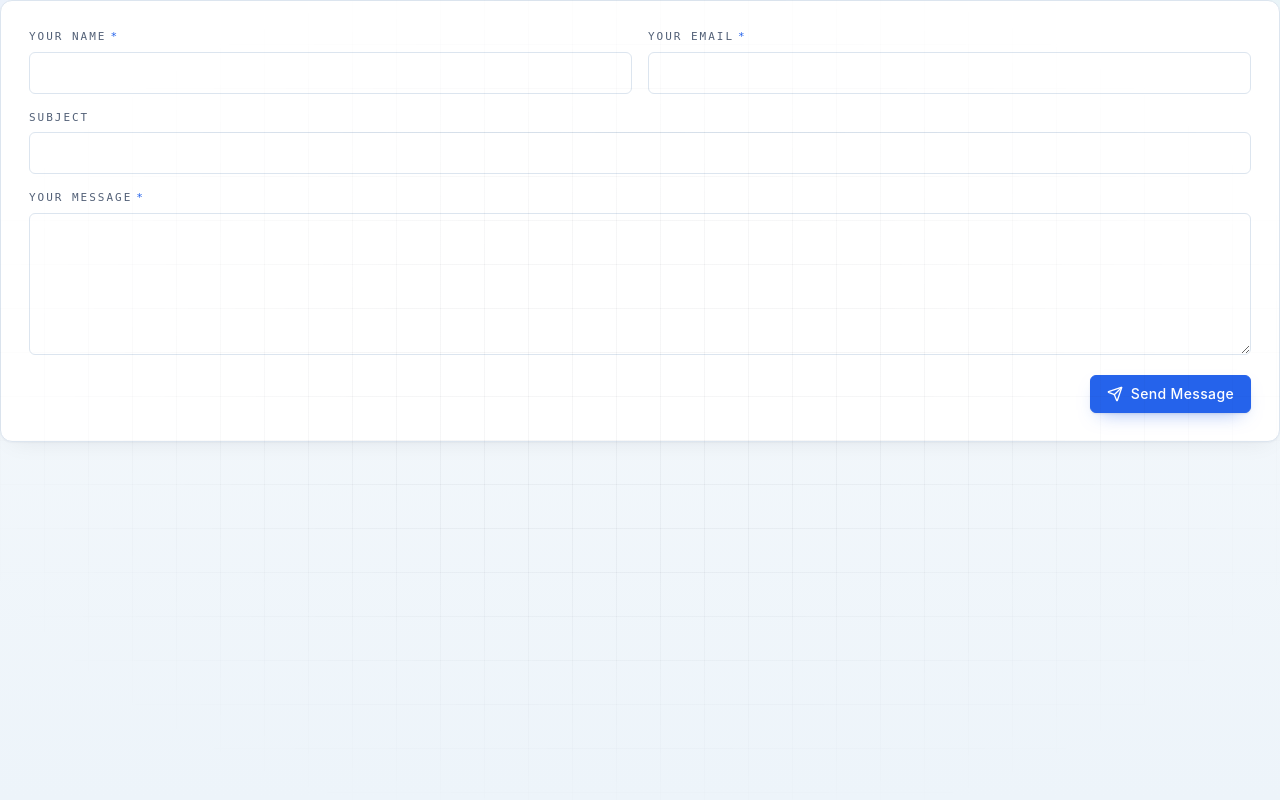
Test: ContactForm fallback › opens mailto when no contact endpoint is configured
This screenshot has width=1280, height=800.
Type "Alex Recruiter" into the field labelled "Your Name*" at (330, 72), box [29,52,632,94]
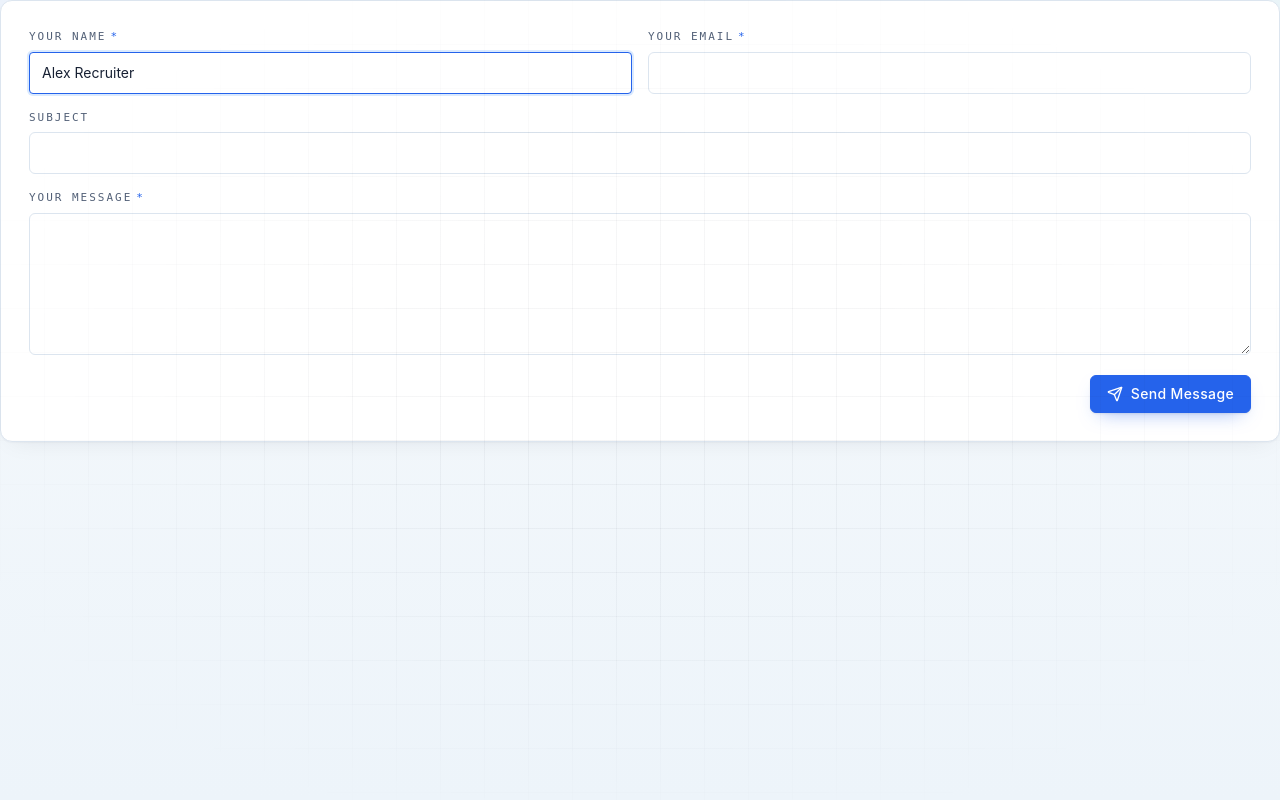
Type "alex@example.com" into the field labelled "Your Email*" at (950, 72), box [648,52,1251,94]
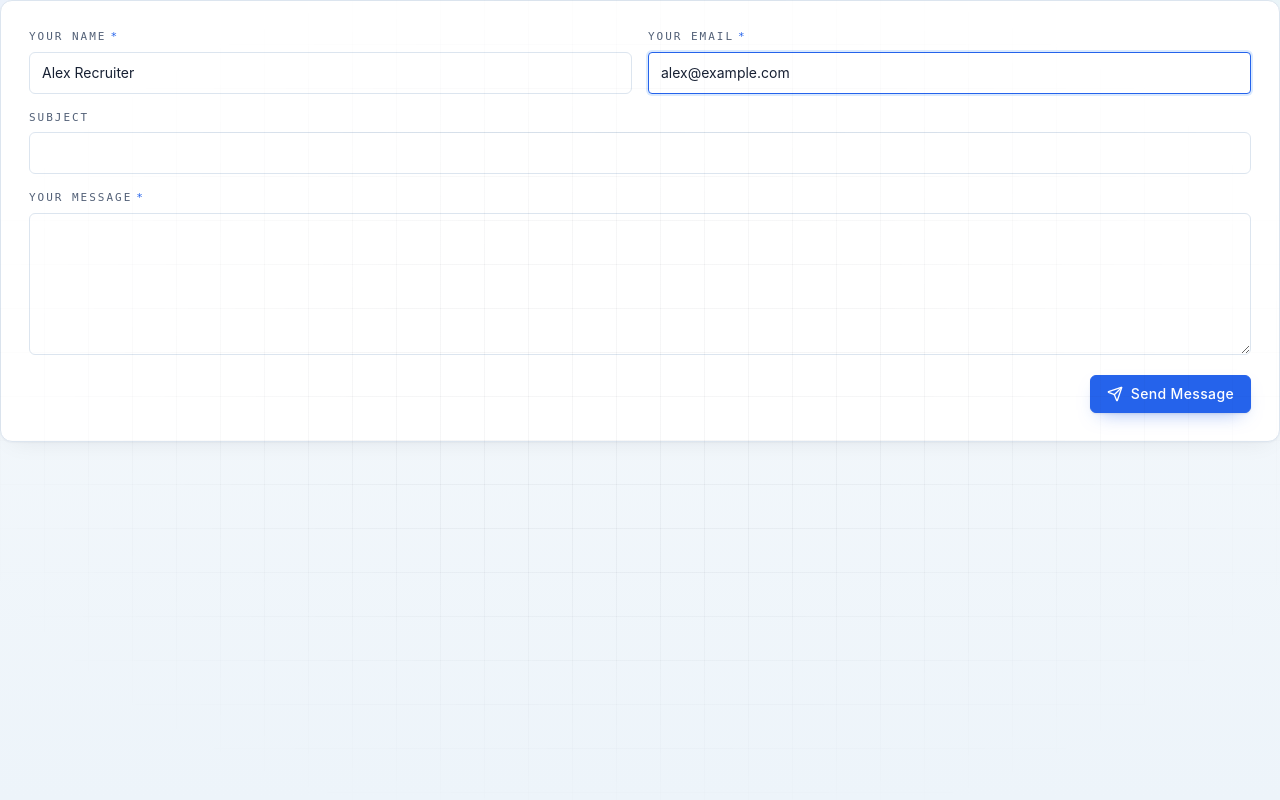
Type "Role discussion" into the field labelled "Subject" at (640, 153), box [29,132,1251,174]
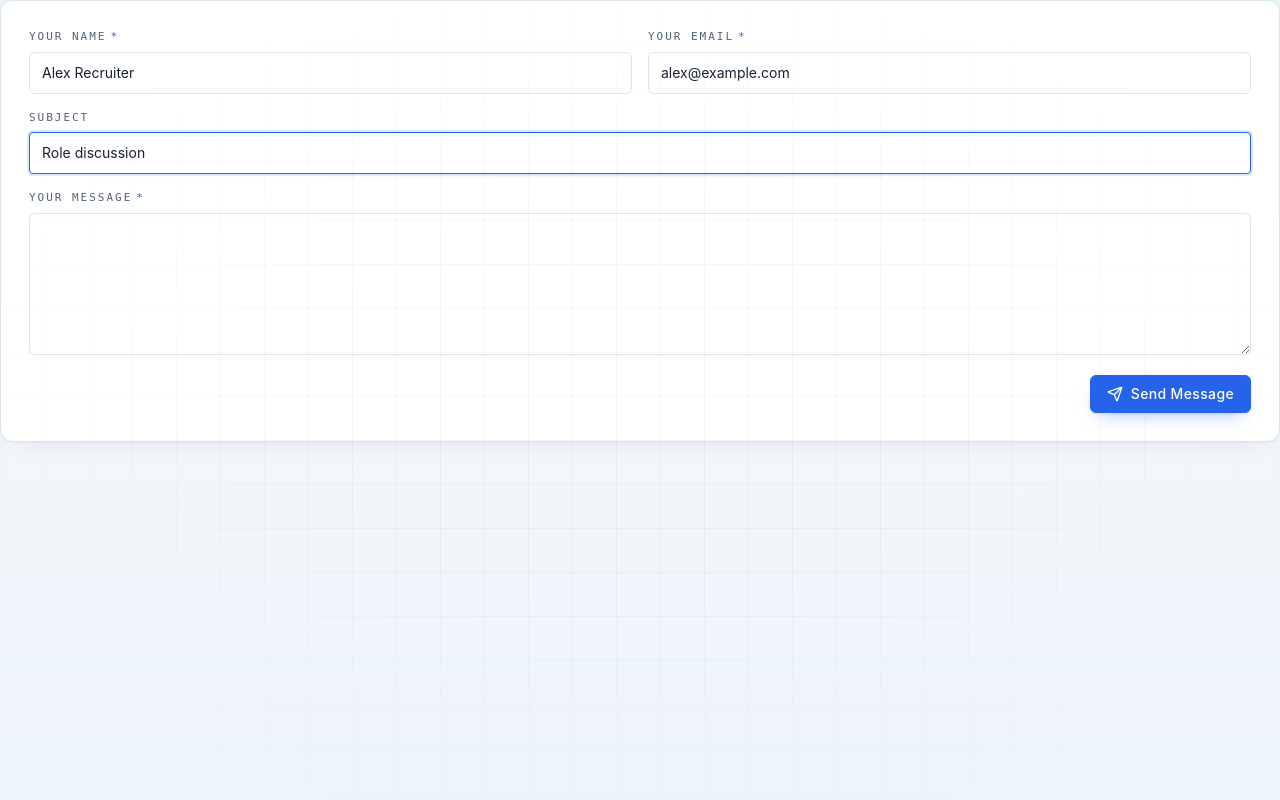
Type "Interested in chatting about an upcoming full-stack role." into the text box labelled "Your Message*" at (640, 284), box [29,212,1251,354]
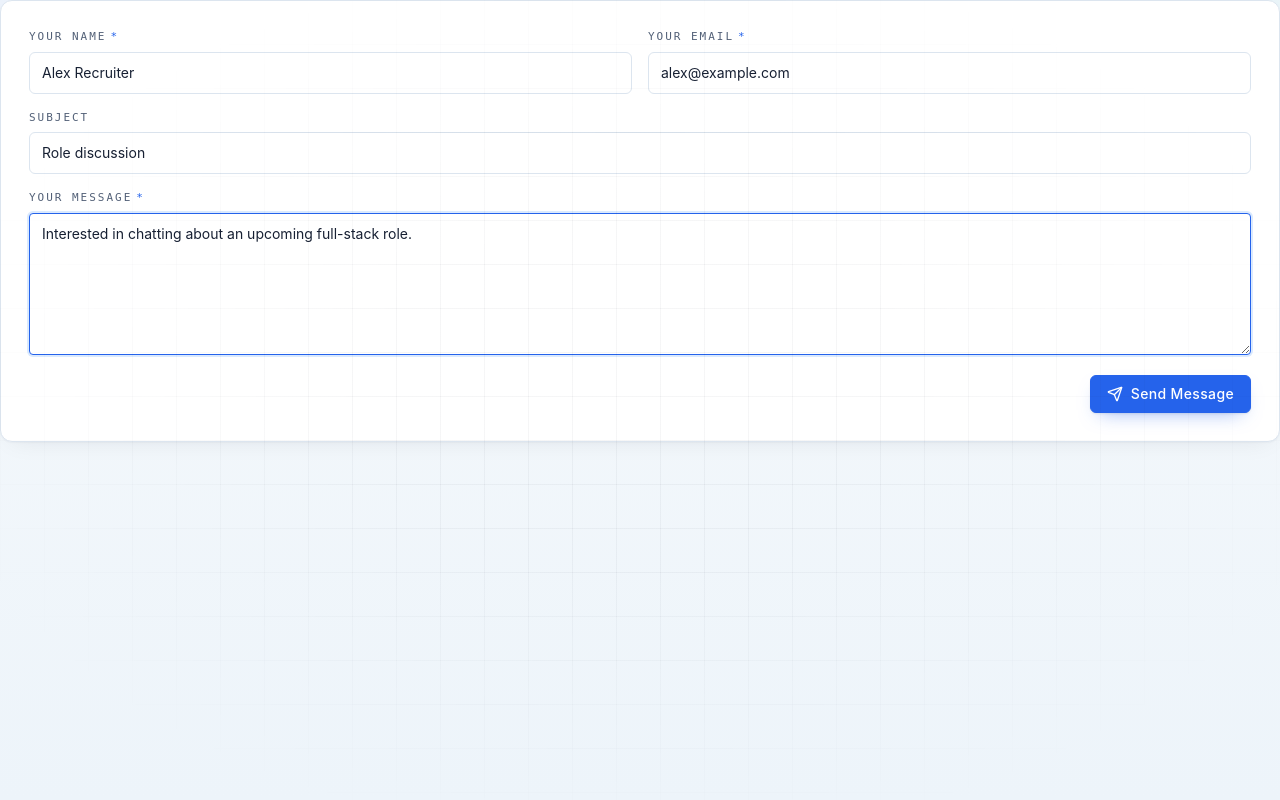
Click the button "Send Message" at (1170, 394), box [1090,374,1251,412]
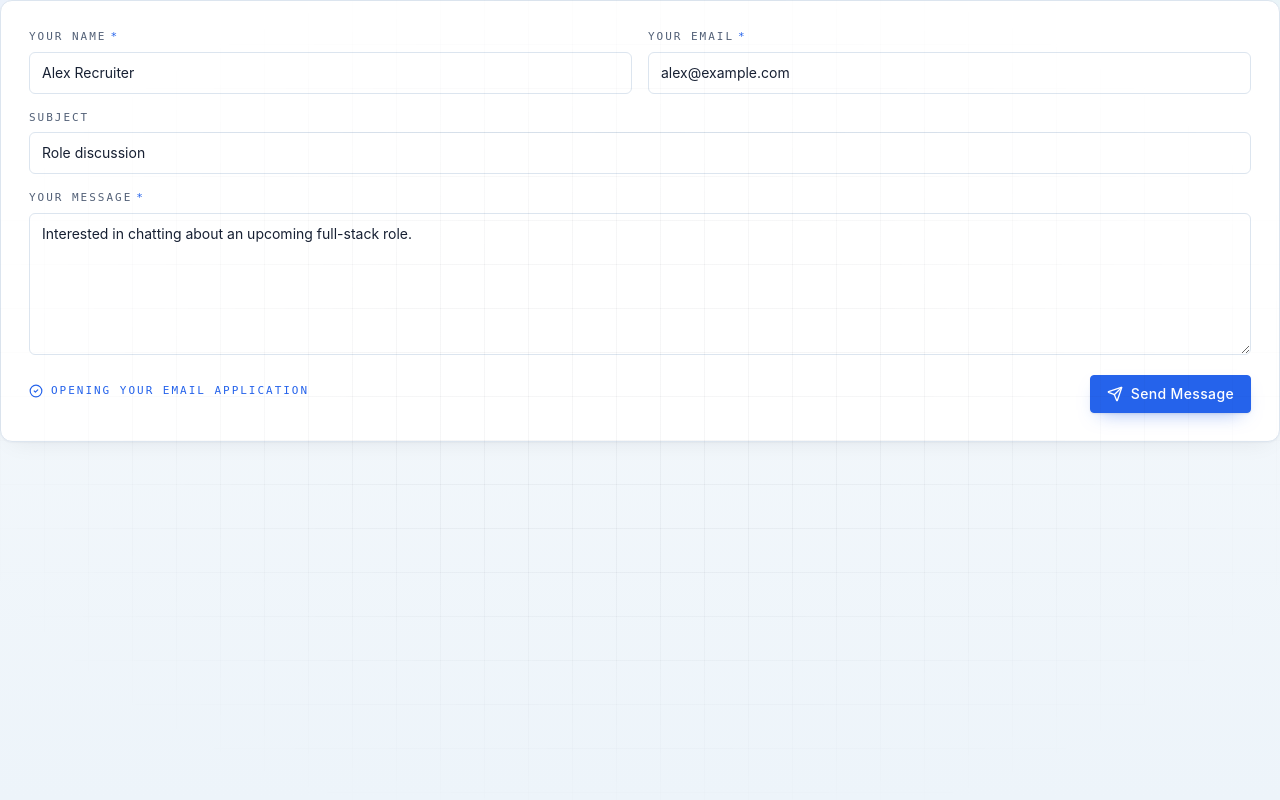
Result: the text "Opening your email application" is shown at [29,383,309,400]
